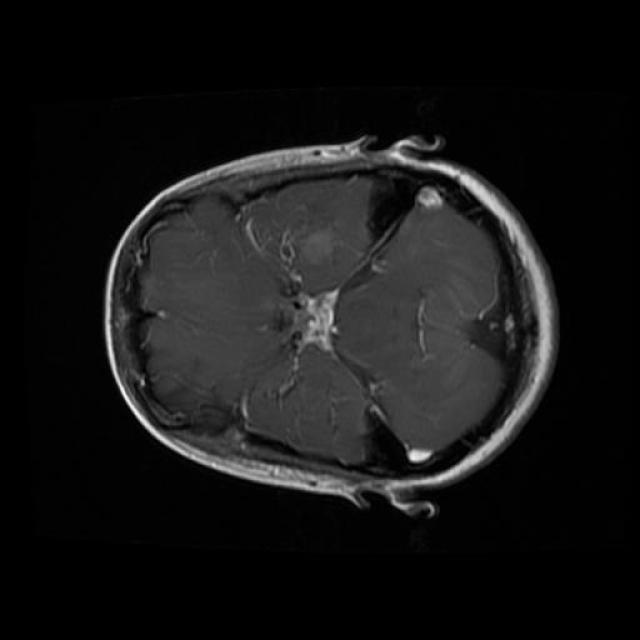Glioma: (244, 217, 337, 271)
